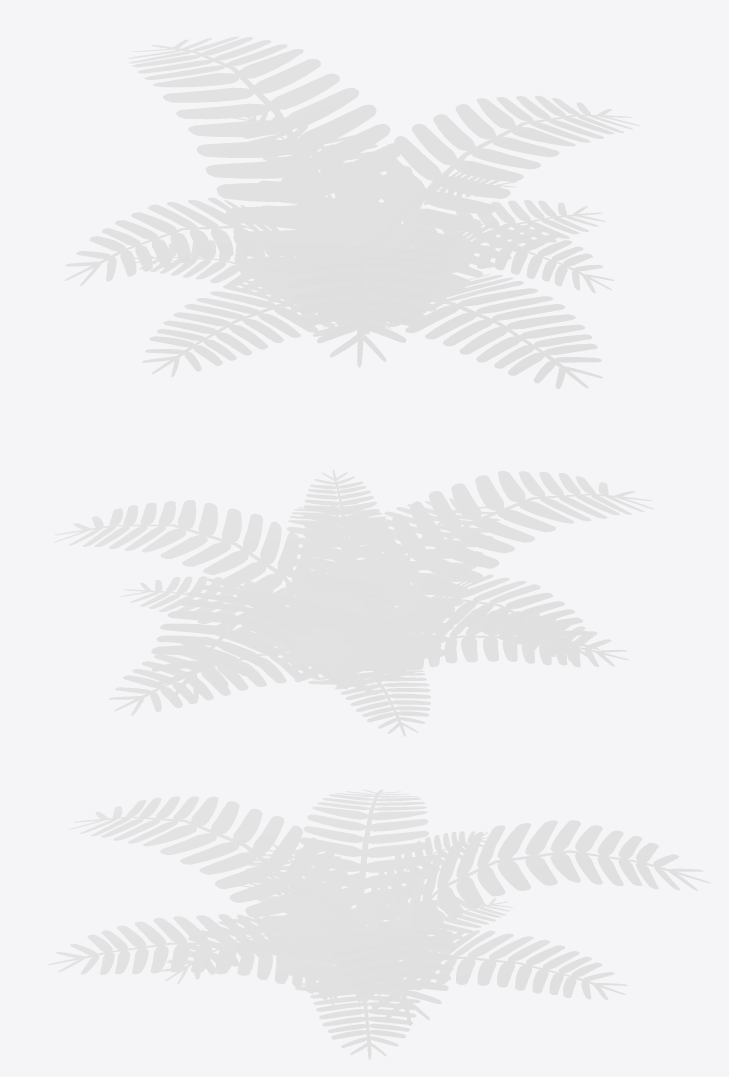
Rendered from Fern.fbx.
3 views of the same model, one above another, from view 1: azimuth 30°, elevation 25°; view 2: azimuth 150°, elevation 25°; view 3: azimuth 270°, elevation 25° (orthographic). The views are drawn at different scales.
Visible parts, largest first — view 1: Plane.012; view 2: Plane.012; view 3: Plane.012.
Boxes of the visible parts, bbox=[...] form: Plane.012: bbox=[64, 36, 639, 388]; Plane.012: bbox=[53, 469, 654, 736]; Plane.012: bbox=[48, 789, 710, 1059].
Size of the model in its own units: 282 by 71.42 by 323.
